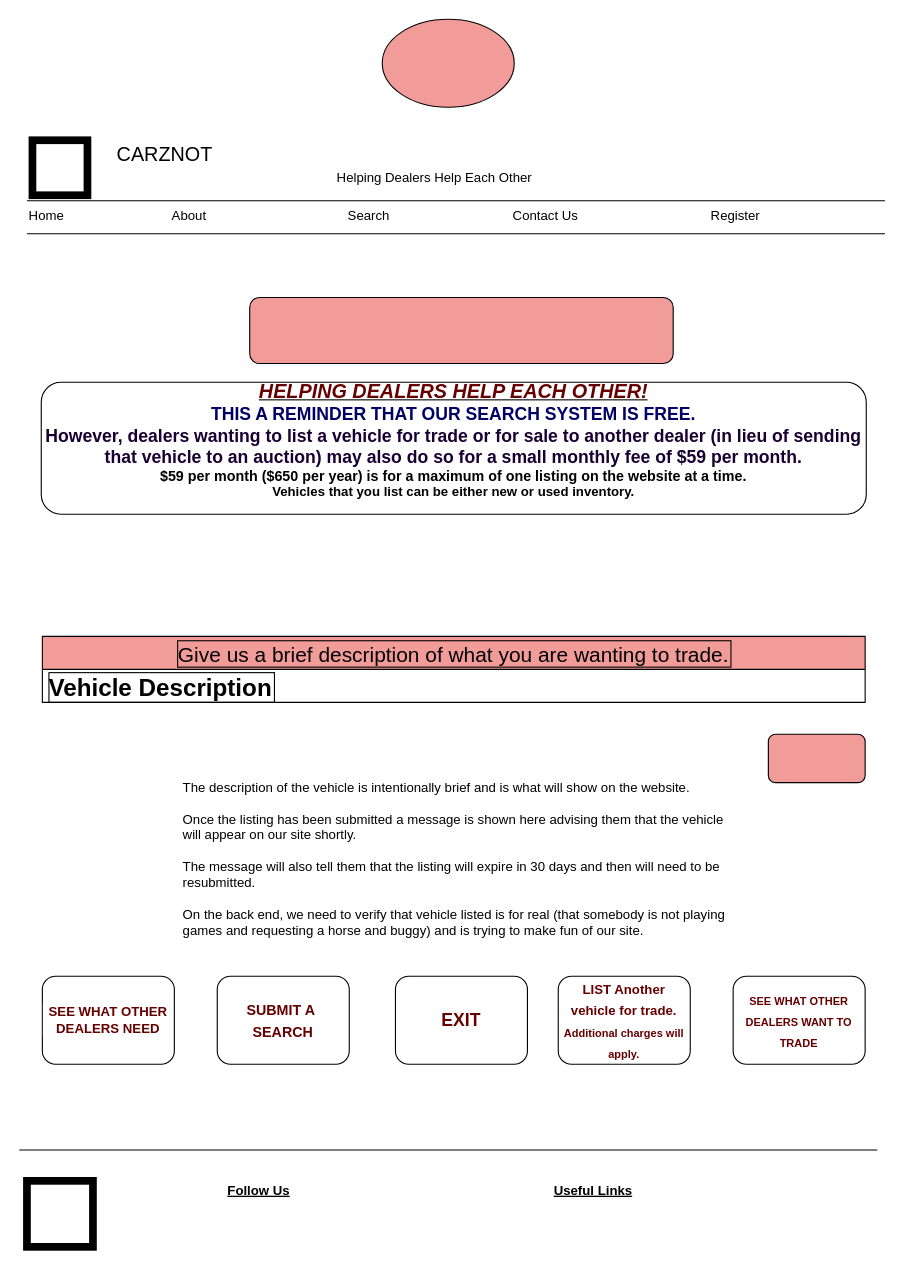
The diagram is 904 pixels wide and 1269 high, and some of its shapes have lost their labels. The shapes that lost their labels are listed below. From the top down, each one's centre as x and y in pixels, then its label:
the point at 447,62: TO TRADE
the point at 461,330: Vehicle Trade
the point at 816,758: Submit
